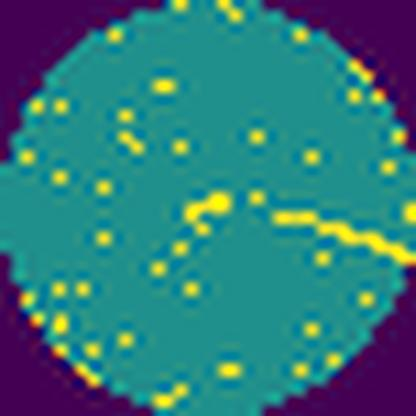Scratch: (269, 208, 416, 268)
